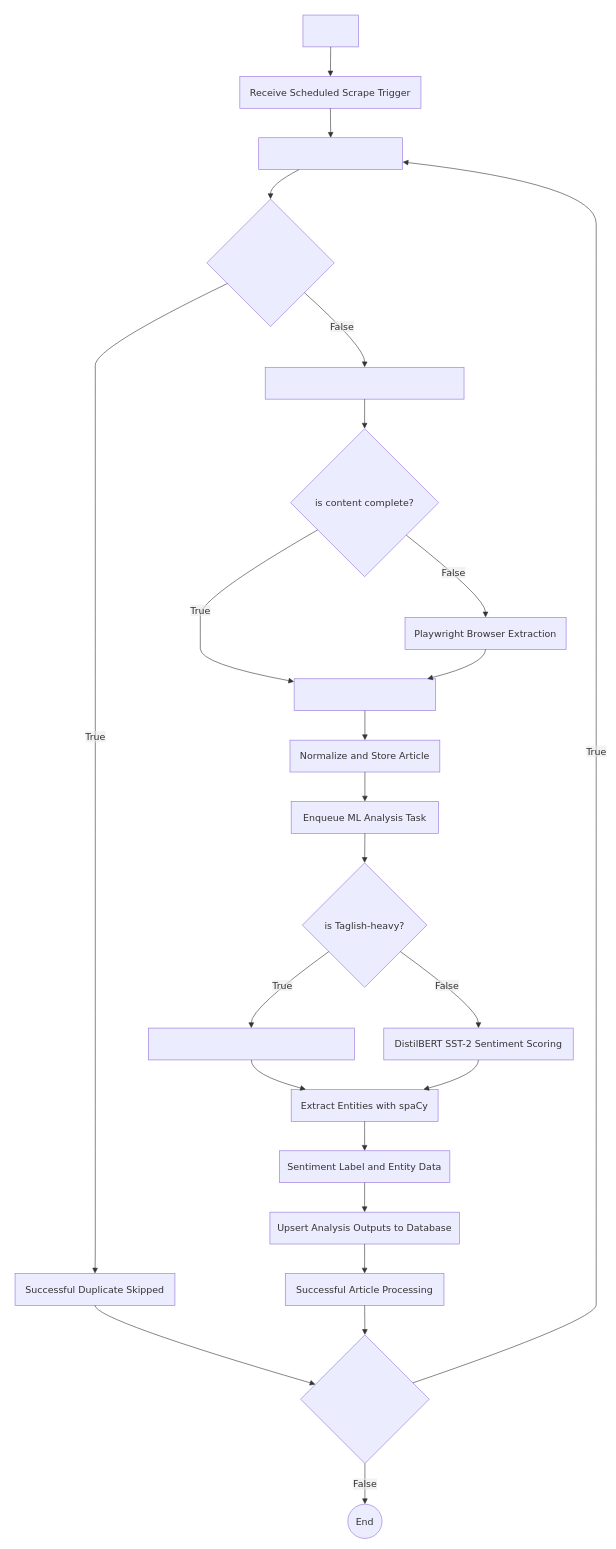
This 616x1549 diagram has some shape labels left out. Here are the shapes that lost their labels. From the top down, the box of each, then its label:
(302, 14, 358, 47): Start
(258, 137, 403, 170): Discover Candidate URLs
(206, 199, 334, 327): is duplicate URL?
(265, 367, 464, 399): Extract Content via HTTP/JSON/HTML
(294, 678, 436, 711): Article Text and Metadata
(148, 1027, 354, 1060): VADER + PH Lexicon Sentiment Scoring
(300, 1334, 429, 1463): is another article?
